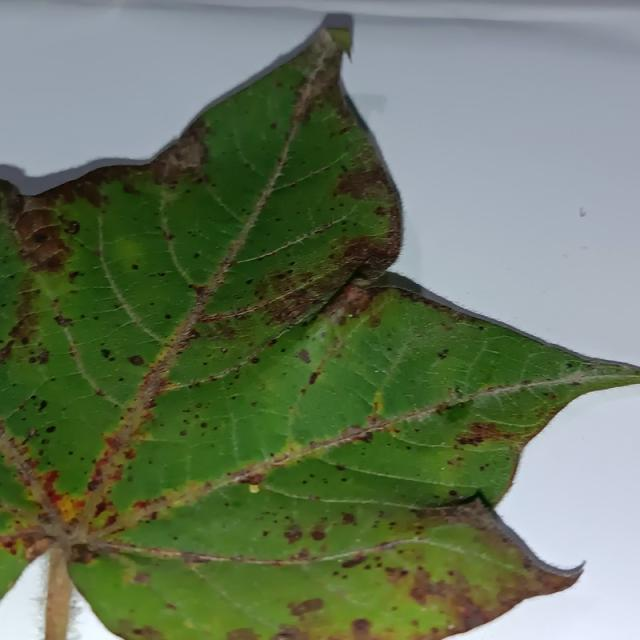Bacterial_Blight: (70, 433, 133, 522), (171, 357, 262, 396), (154, 131, 209, 183), (404, 570, 466, 613), (38, 466, 78, 522), (266, 291, 313, 326), (455, 421, 511, 447), (28, 236, 66, 266), (118, 351, 153, 377), (441, 400, 472, 424), (288, 597, 324, 617), (459, 607, 487, 631), (337, 425, 370, 445), (70, 543, 99, 565), (304, 366, 332, 388), (341, 241, 373, 260), (27, 536, 54, 556), (410, 585, 435, 605), (224, 626, 258, 640), (383, 565, 408, 583), (0, 338, 17, 363), (103, 433, 124, 452), (340, 554, 366, 569), (351, 617, 371, 636), (132, 625, 159, 639), (283, 524, 303, 542), (241, 472, 265, 487), (275, 624, 300, 638), (122, 255, 139, 275), (20, 429, 40, 445), (456, 434, 482, 446), (34, 349, 50, 365), (132, 571, 151, 584), (296, 348, 311, 364), (54, 315, 73, 327), (64, 221, 80, 235), (367, 314, 382, 328), (272, 452, 289, 464), (87, 478, 102, 491), (373, 205, 389, 217), (311, 529, 326, 541), (341, 512, 356, 524), (5, 578, 17, 593), (33, 232, 48, 243), (37, 399, 48, 412), (100, 348, 112, 359), (437, 349, 449, 360), (176, 428, 189, 438), (164, 603, 177, 611), (20, 335, 30, 345), (249, 484, 259, 493), (45, 425, 56, 433), (28, 428, 37, 437), (250, 356, 260, 364), (448, 490, 458, 497), (220, 346, 228, 354), (193, 251, 201, 259), (245, 278, 254, 285), (164, 313, 172, 320), (288, 260, 296, 267), (565, 362, 573, 369), (157, 271, 166, 277), (270, 122, 277, 129), (580, 210, 587, 217), (200, 422, 208, 428), (477, 325, 485, 331), (347, 313, 354, 318), (581, 245, 588, 250), (374, 369, 380, 374)
Cotton: (0, 27, 639, 639)
